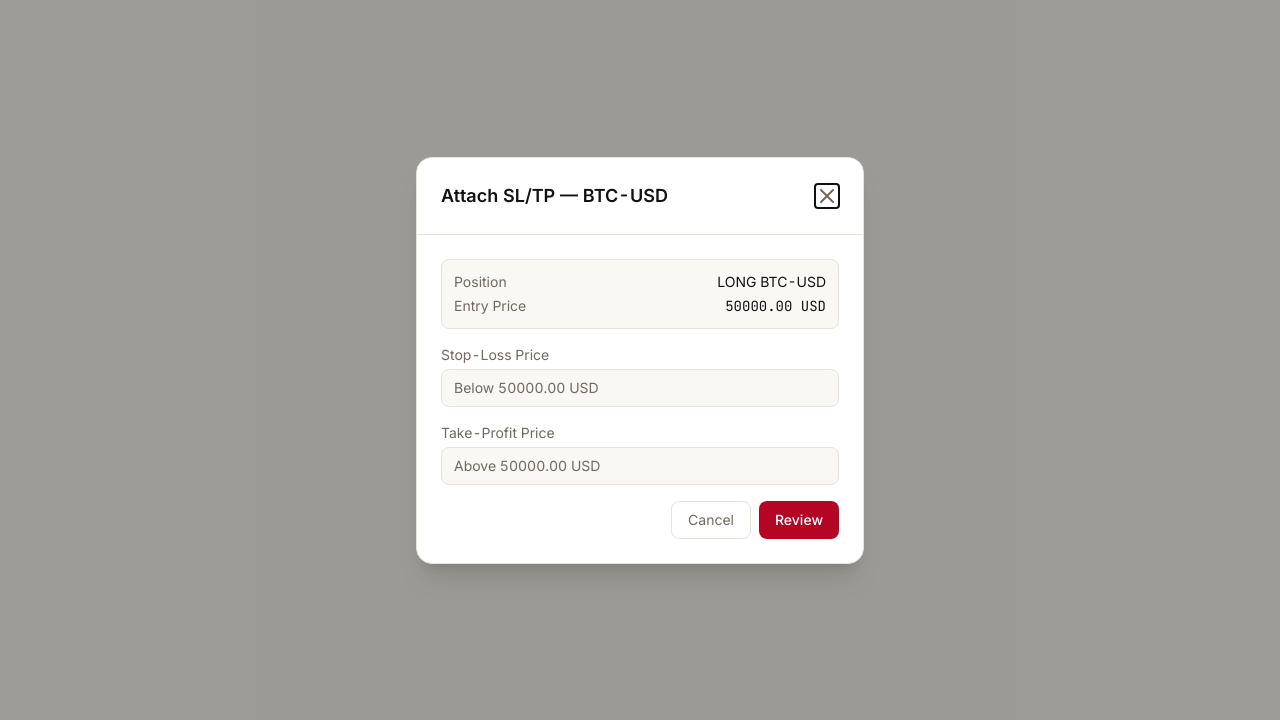
AttachBracketModal › validates TP above entry for LONG
The width and height of the screenshot is (1280, 720).
Type "45000" into the number field with test id "tp-price-input".
click(640, 466); type("45000")  # box x1=441 y1=446 x2=839 y2=484
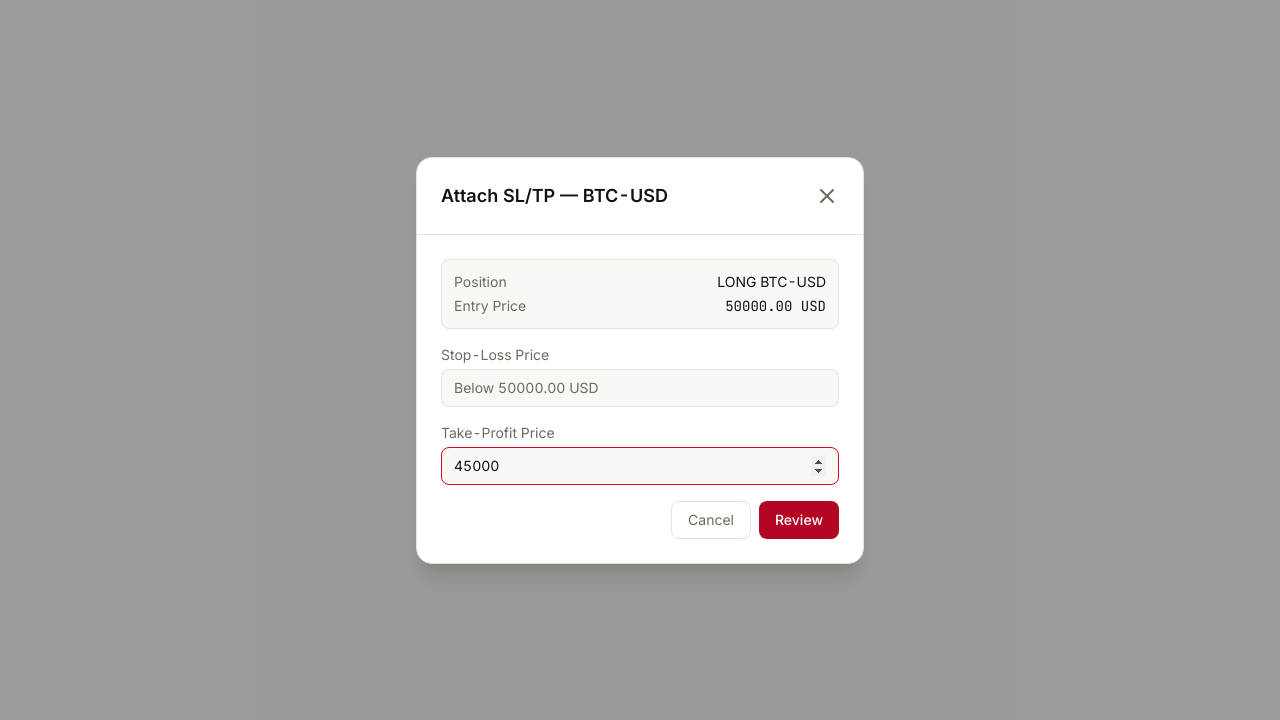
Click the button with test id "bracket-submit".
click(799, 520)  # box x1=759 y1=500 x2=839 y2=538
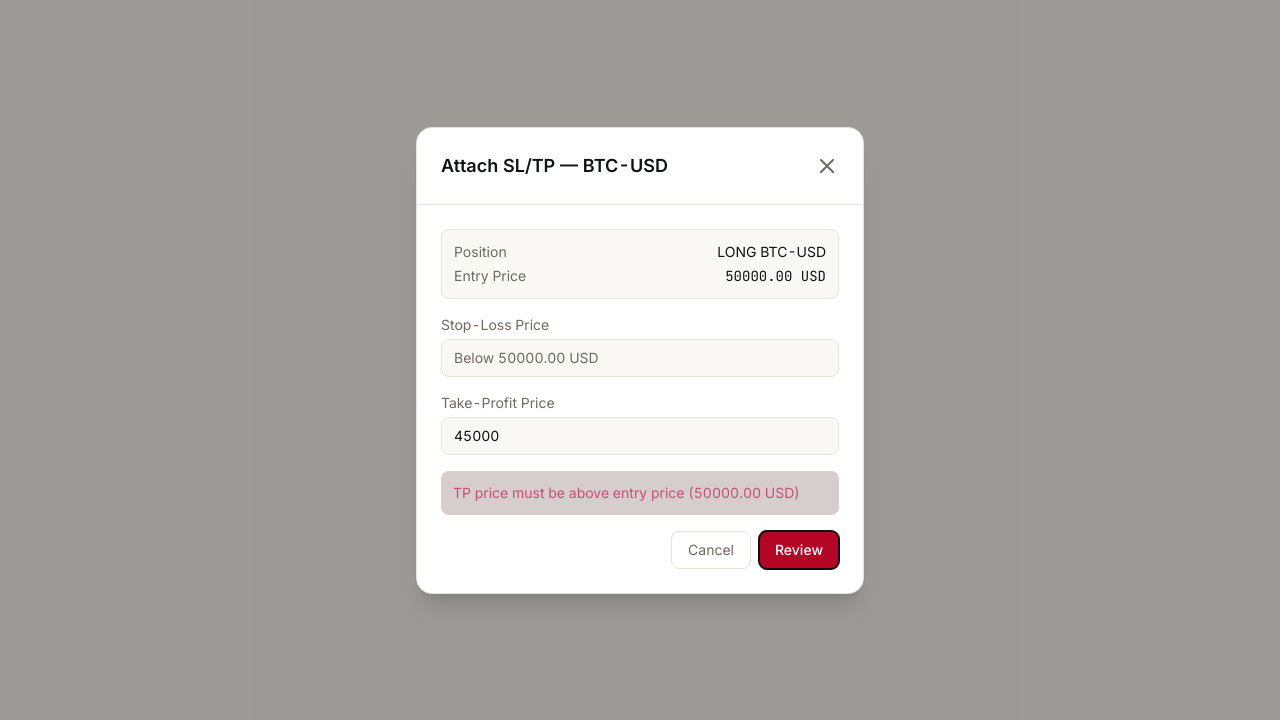
Check: the text with test id "bracket-error" shows "TP price must be above entry", box x1=453 y1=484 x2=800 y2=500
